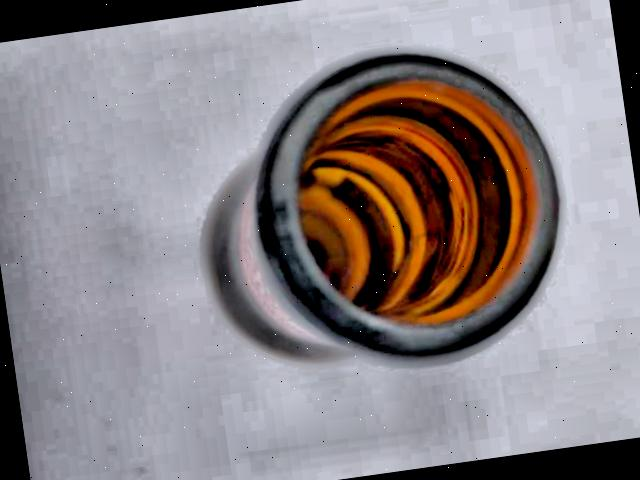Bottles: (158, 19, 582, 406)
